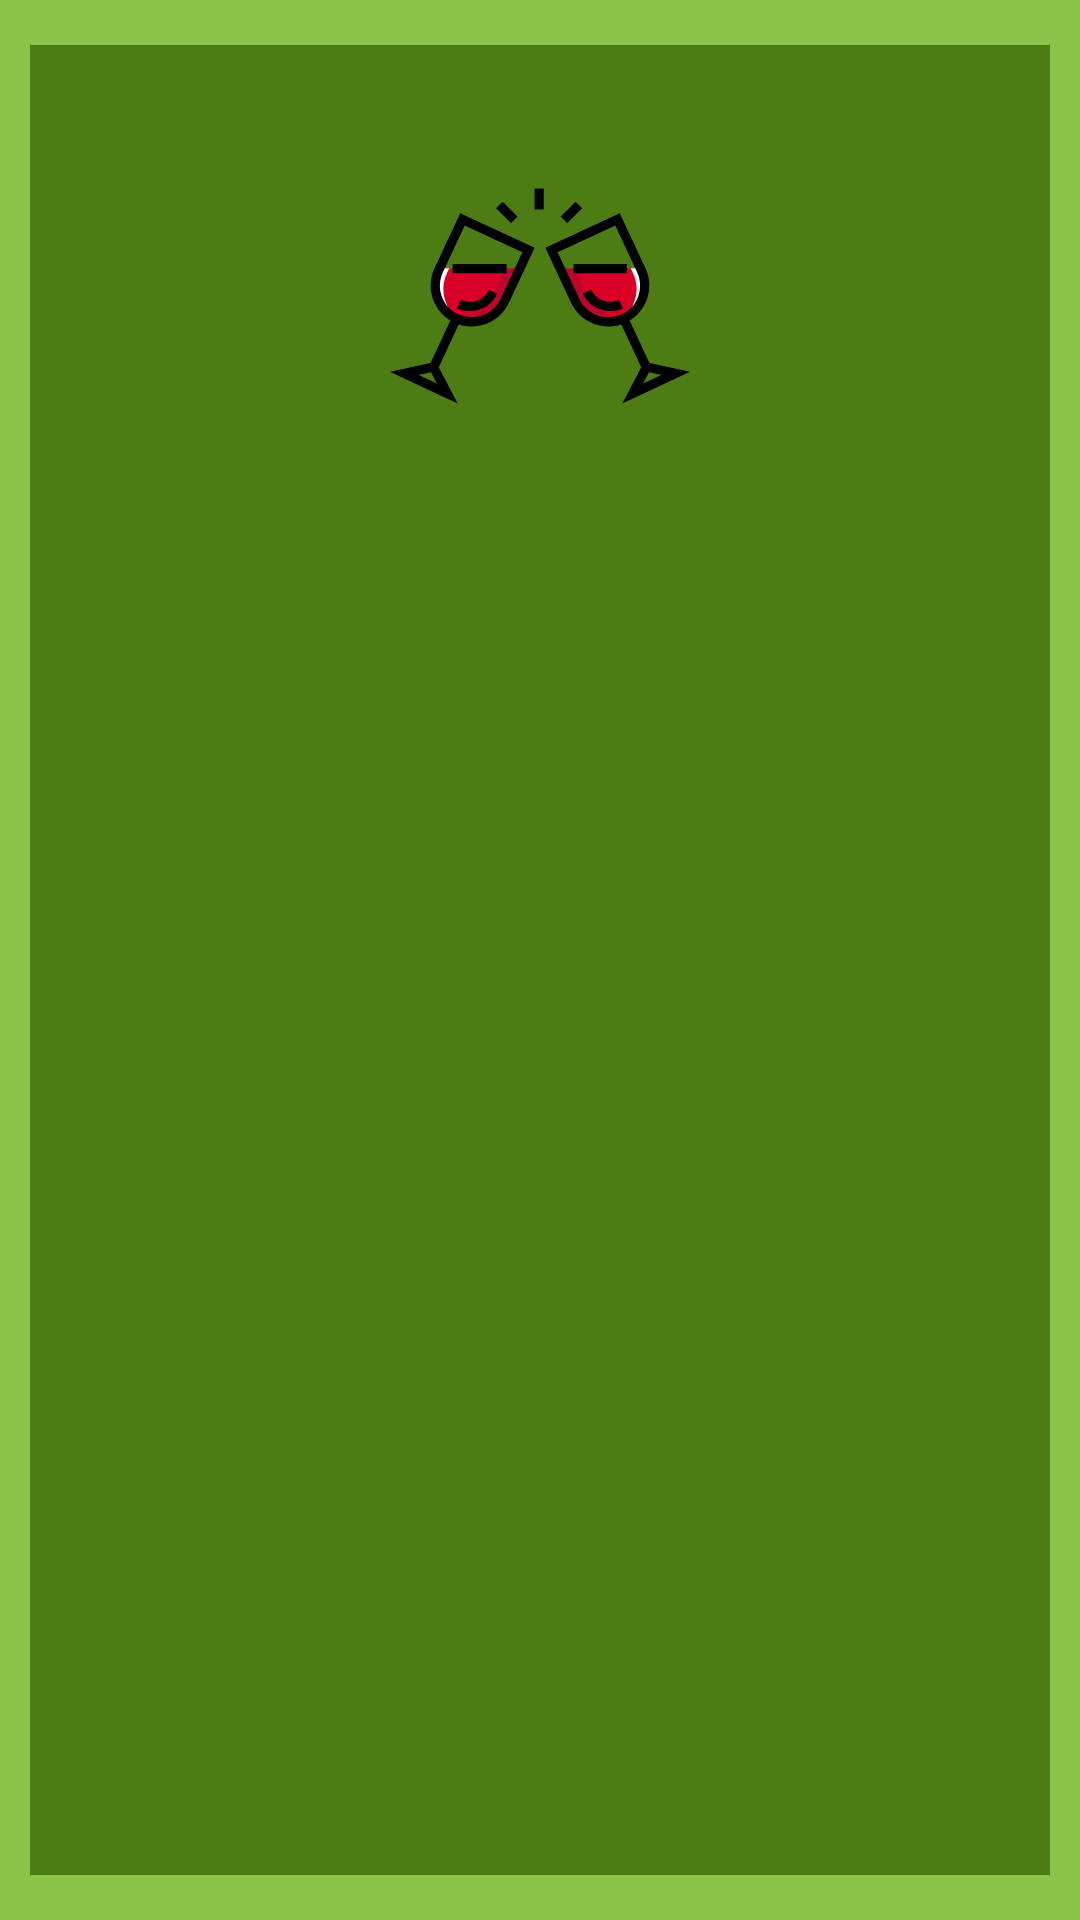

Icon click points for this 1080 × 1920 phone screenshot, format (x,y):
wine: (540,295)
